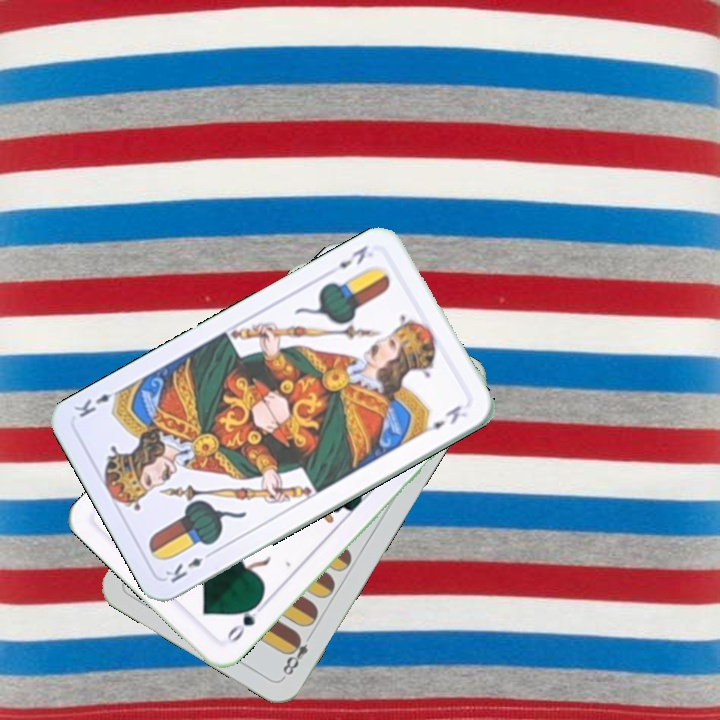E8: (278, 629, 316, 681)
EK: (161, 546, 218, 586), (334, 241, 371, 271)
GO: (220, 597, 268, 645)
